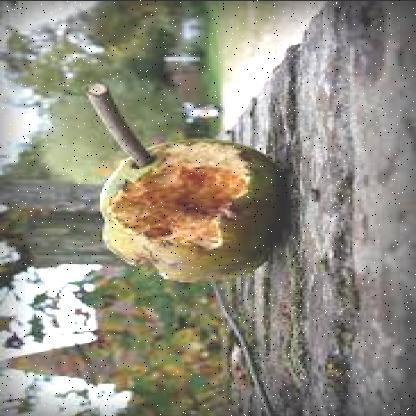damaged_apple: (94, 141, 280, 286)
